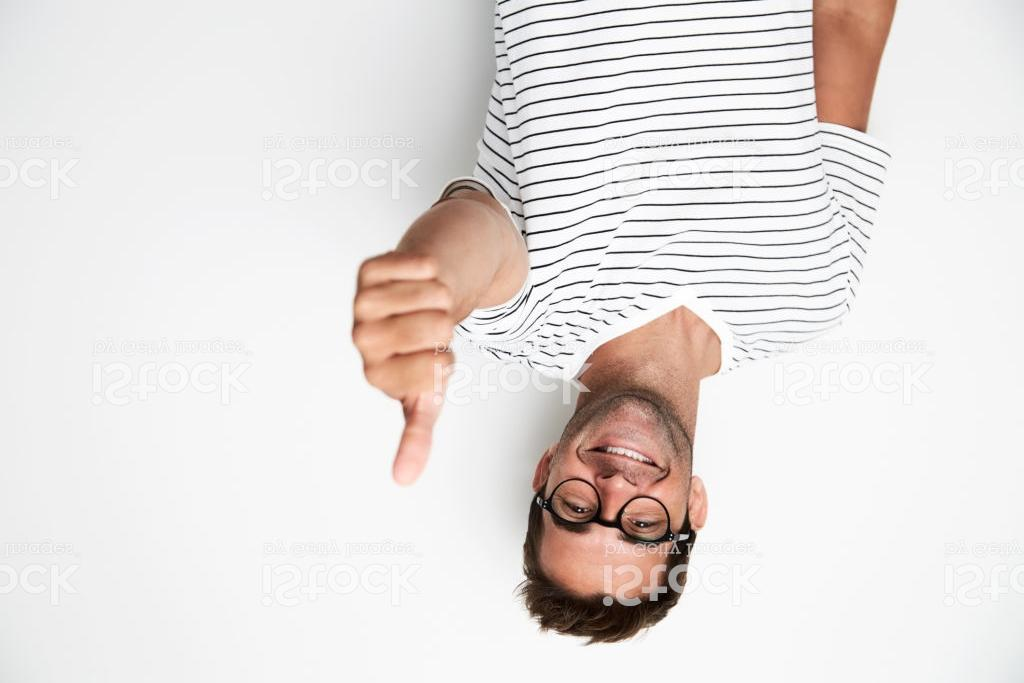thumbsdown: (348, 247, 457, 489)
